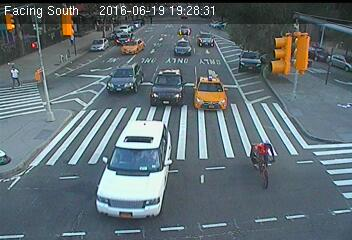neg: (234, 129, 285, 197), (142, 149, 160, 173), (97, 28, 112, 47)
pos: (1, 62, 23, 91)
